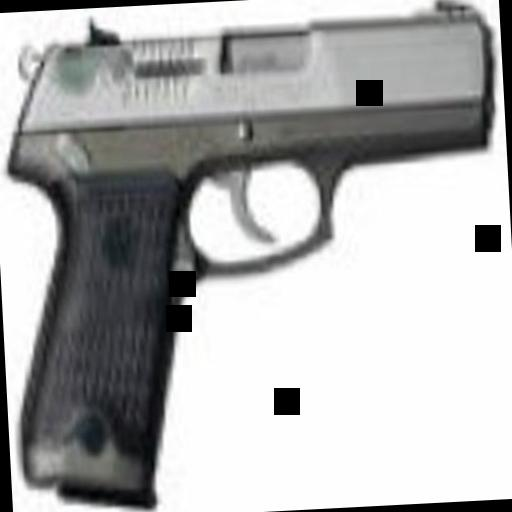Handgun: (0, 0, 512, 505)
